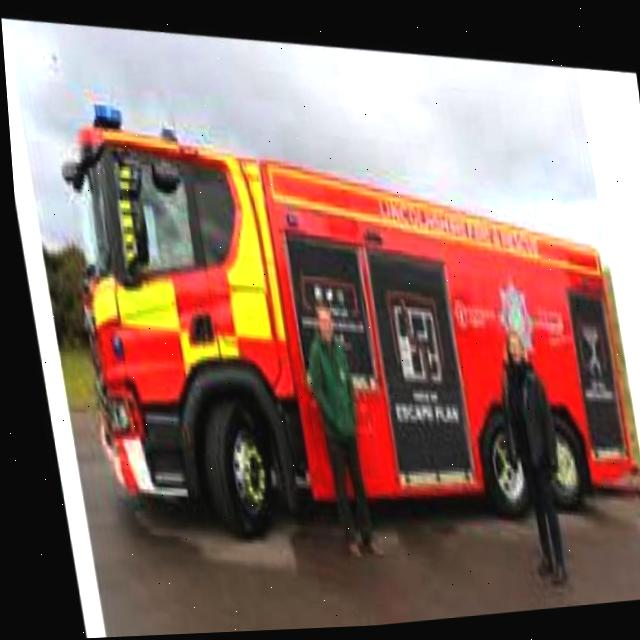emergency: (48, 59, 640, 563)
